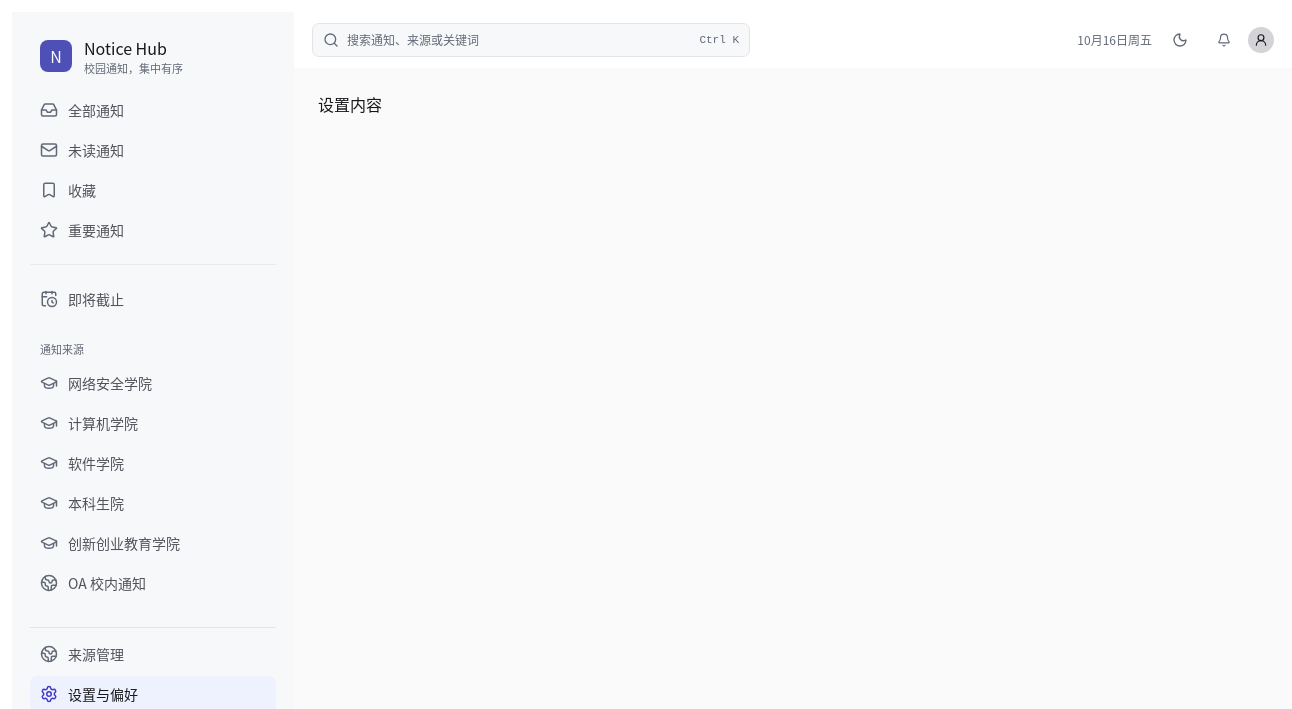
Test case: notice workspace selection › does not apply settings query parameters to a search destination
(page scrolled)
Type "通知" into the dropdown labelled "搜索通知" at point(519, 40), box [347,31,691,49]
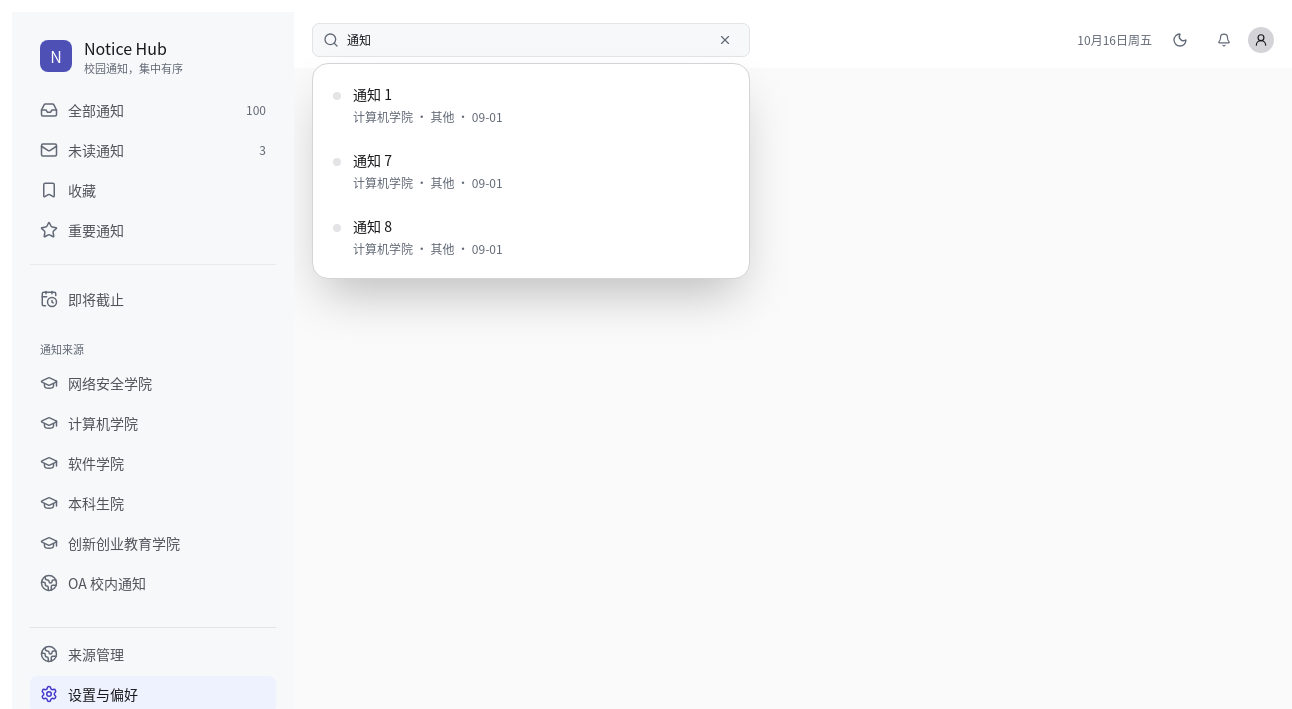
Click the option "通知 7 计算机学院 · 其他 · 09-01" at point(348, 161), box [321,138,741,204]
(page scrolled)
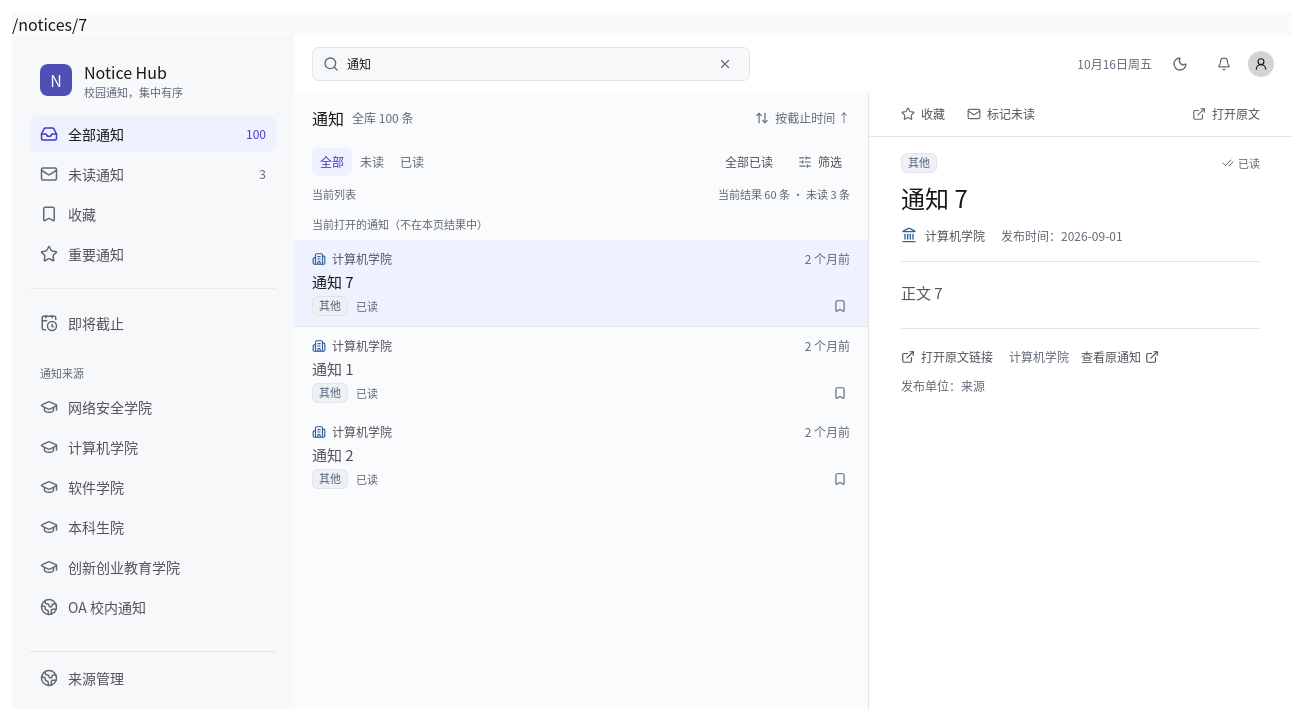
Expected: the heading "通知 7" is shown, [901,180,968,215]
Expected: the text with test id "location" reads "/notices/7", [12,12,87,36]
